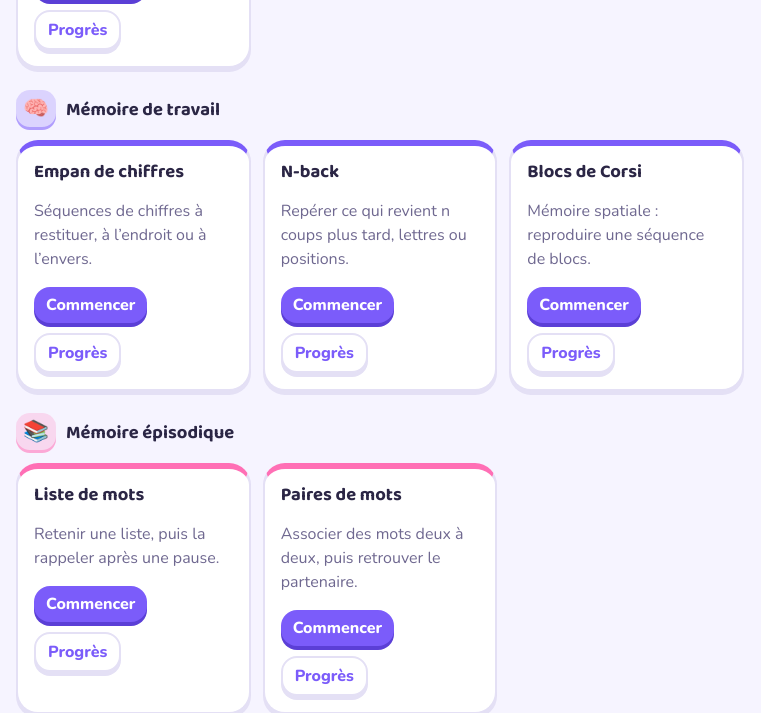
Test: App working memory flow › keeps domains separate on the progress pages
The image size is (761, 713).
(page scrolled)
What coordinates should you click on to do the following:
click the 2nd button "Progrès"
I would click on:
 (78, 353)
Its box is x1=34 y1=333 x2=121 y2=373.
(page scrolled)
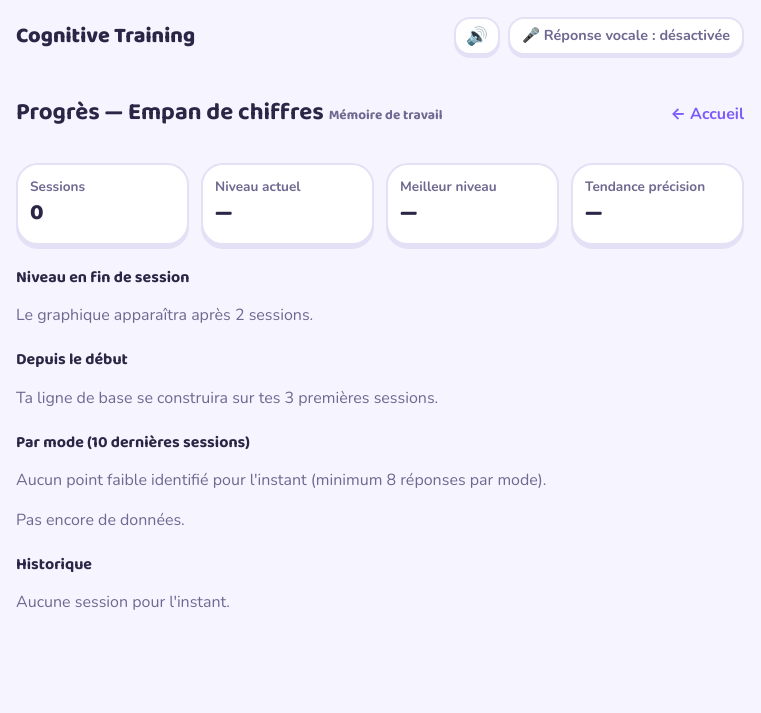
Result: the text "Aucune session pour l'instant." is shown at x1=16 y1=591 x2=230 y2=613
